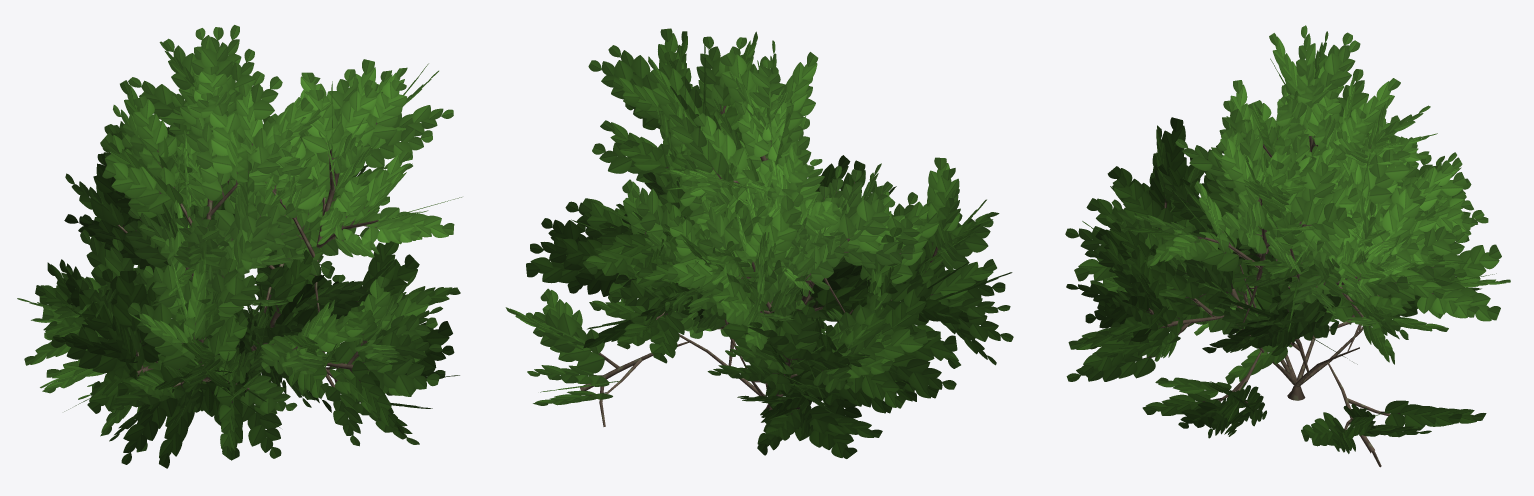
The model's file is bush.glb.
3 renders of one model, left to right at view 1: azimuth 30°, elevation 25°; view 2: azimuth 150°, elevation 25°; view 3: azimuth 270°, elevation 25°, orthographic. The views are drawn at different scales.
Parts seen in each view (by area): view 1: bush; view 2: bush; view 3: bush.
Boxes of the visible parts, box(x1,y1,x2,y2) form: bush: box(17, 25, 461, 468); bush: box(505, 28, 1013, 458); bush: box(1065, 25, 1510, 467).
Size of the model in its own units: 3.17 by 2.77 by 3.07.
Materials: 2 (2 with a texture image).
